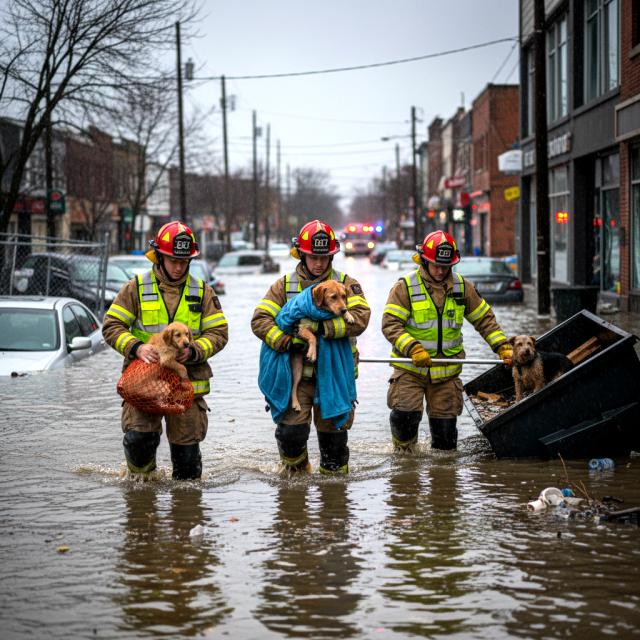dog: (270, 276, 351, 418), (121, 313, 202, 419), (502, 328, 576, 401)
rescuer: (100, 212, 230, 496), (251, 213, 371, 485), (384, 226, 515, 464)
